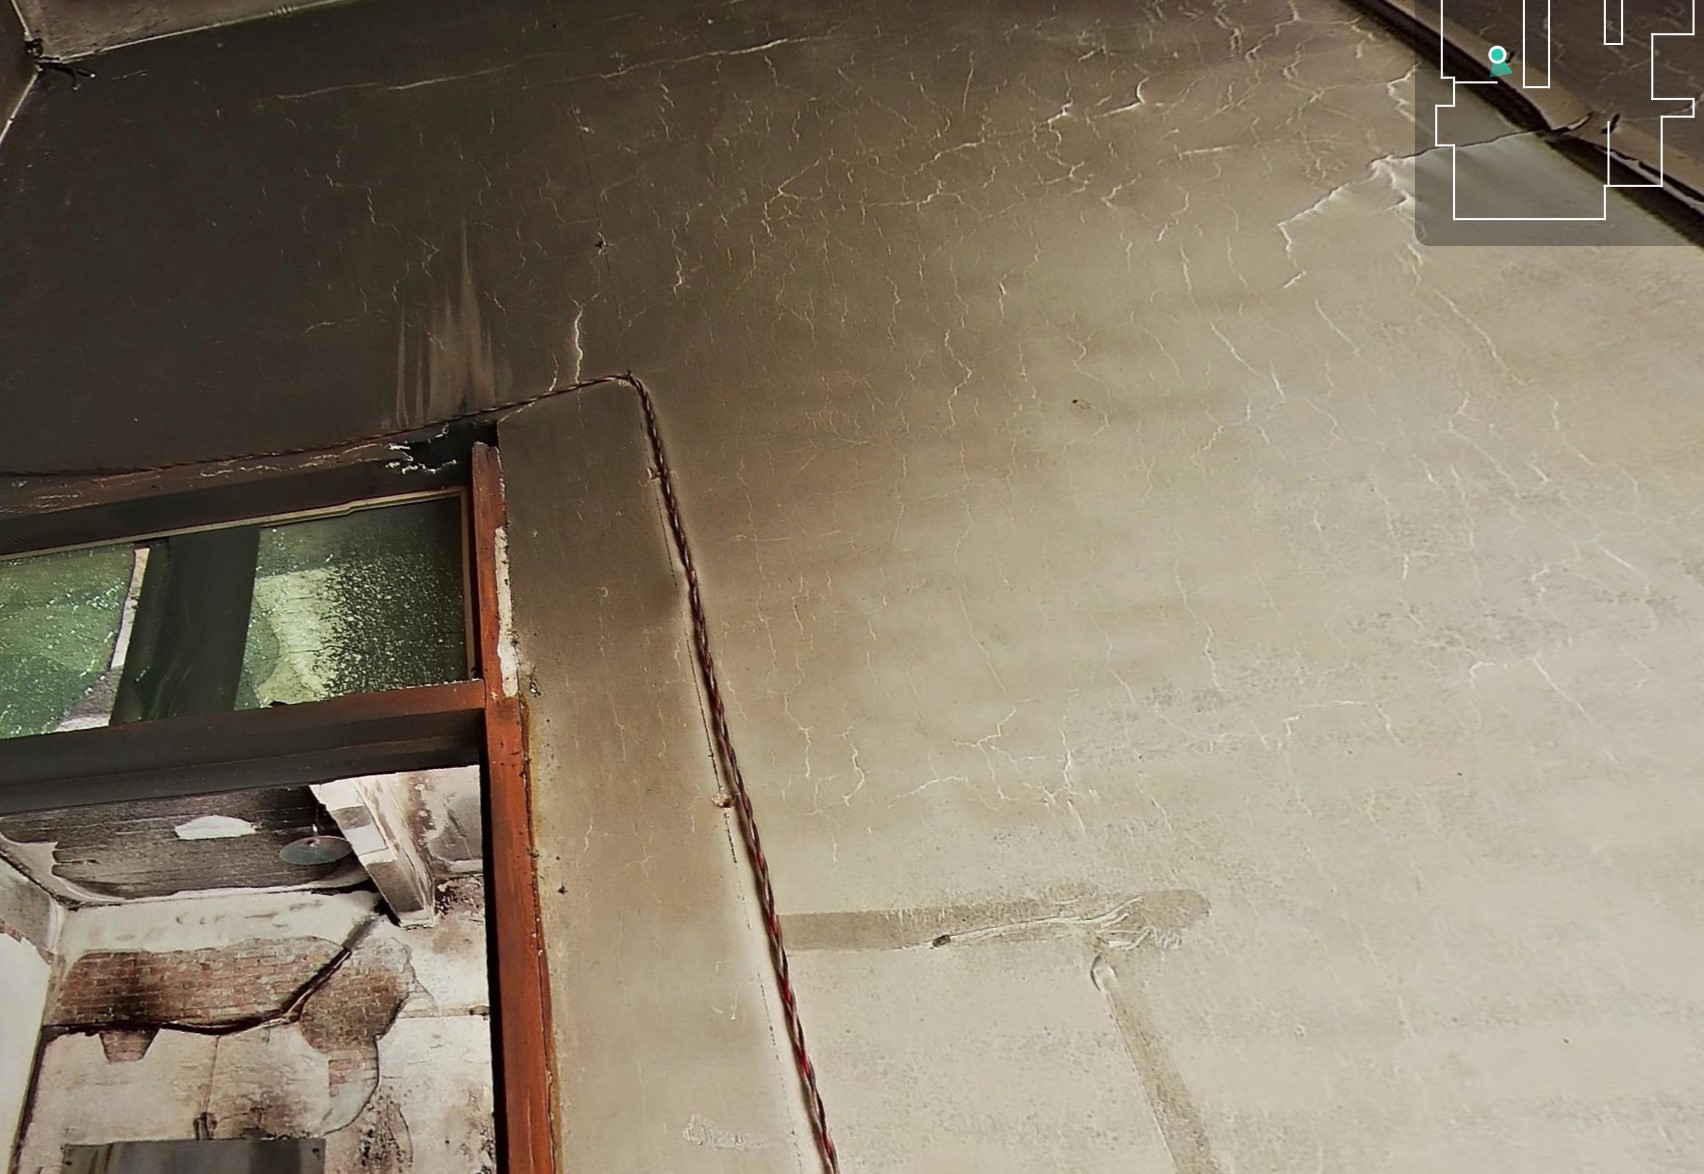Damage_level1: (19, 101, 372, 431), (502, 423, 688, 668), (370, 52, 543, 267)
Damage_level3: (636, 74, 1411, 271), (1294, 321, 1635, 678), (785, 700, 1106, 850), (761, 295, 1103, 435), (567, 692, 710, 891), (1136, 302, 1275, 452)
Damage_level4: (47, 922, 432, 1146), (23, 815, 335, 893), (381, 781, 489, 915)
